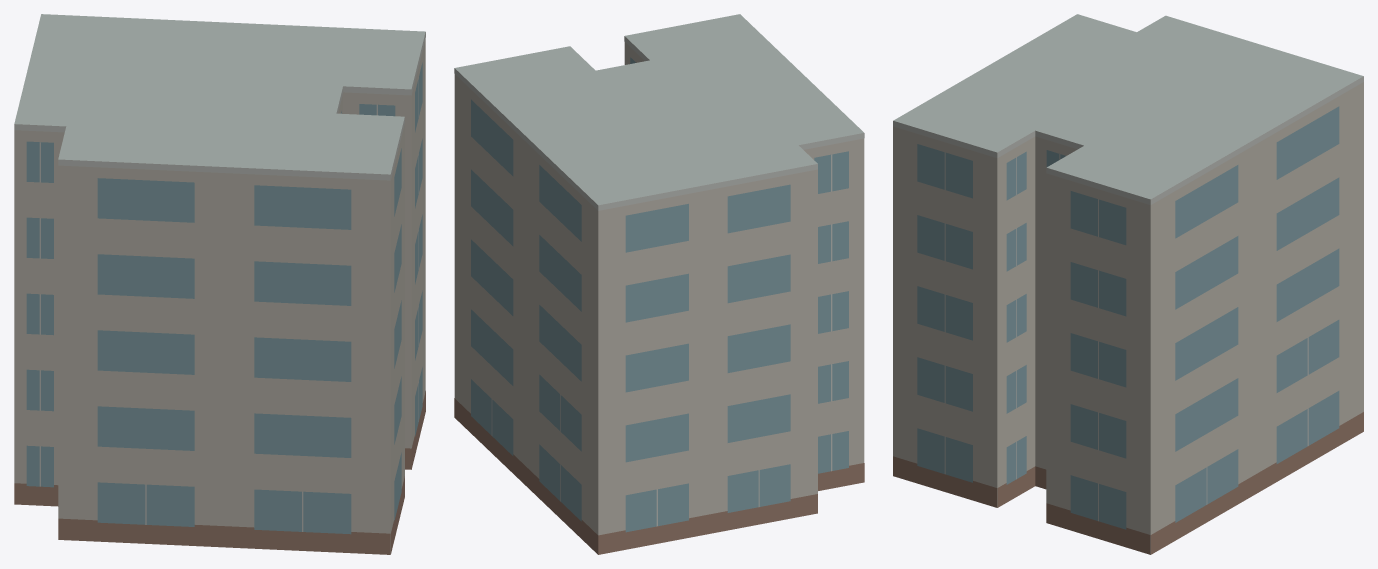
The model's file is survey-upis-32773956.glb.
3 views of the same model, side by side, from view 1: azimuth 30°, elevation 25°; view 2: azimuth 150°, elevation 25°; view 3: azimuth 270°, elevation 25° (orthographic). The views are drawn at different scales.
Visible parts, largest first — view 1: survey-upis-32773956.tmp; view 2: survey-upis-32773956.tmp; view 3: survey-upis-32773956.tmp.
Part boxes in pixels (<box>): survey-upis-32773956.tmp: <box>14,14,425,554</box>; survey-upis-32773956.tmp: <box>454,14,864,554</box>; survey-upis-32773956.tmp: <box>893,14,1363,554</box>.
Size of the model in its own units: 17.08 by 15.25 by 18.32.
